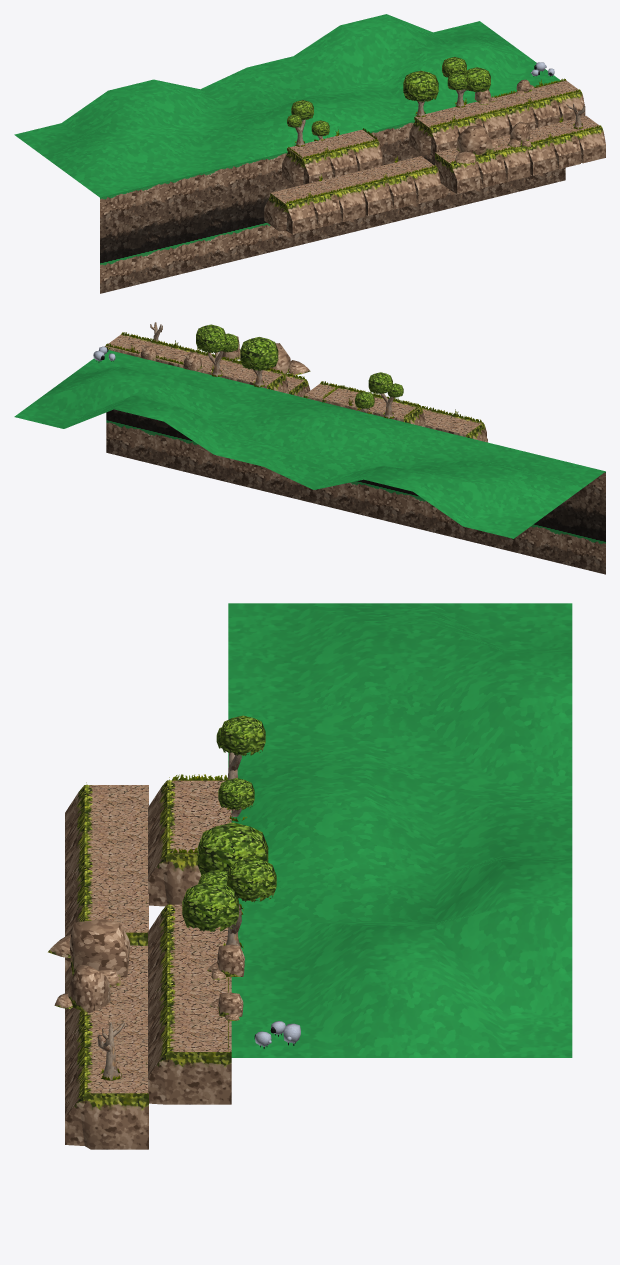
Rendered from terrenoBig_01.FBX.
The picture shows the model from 3 angles, top to bottom: view 1: azimuth 30°, elevation 25°; view 2: azimuth 150°, elevation 25°; view 3: azimuth 270°, elevation 25°; orthographic projection. The views are drawn at different scales.
Visible parts, largest first — view 1: cesped002, terreno_004, Terreno012, Terreno018, Terreno009, terreno_01, Terreno005, Terreno002, Arbol_002, Piedra003, Arbol_01, Arbol_006 (+1 smaller); view 2: cesped002, Terreno012, Terreno002, terreno_01, terreno_004, Arbol_01, Arbol_002, Arbol_006, Piedra003, Terreno005, Terreno018; view 3: cesped002, Terreno002, Terreno009, Terreno012, terreno_004, Terreno018, Arbol_002, terreno_01, Piedra003, Terreno005, Arbol_01, Arbol_006 (+3 smaller).
Part boxes in pixels (x1=…): cesped002: x1=14, y1=14, x2=565, y2=293; terreno_004: x1=264, y1=174, x2=365, y2=234; Terreno012: x1=282, y1=128, x2=382, y2=186; Terreno018: x1=346, y1=156, x2=440, y2=215; Terreno009: x1=527, y1=115, x2=605, y2=175; terreno_01: x1=409, y1=98, x2=509, y2=156; Terreno005: x1=435, y1=134, x2=530, y2=193; Terreno002: x1=492, y1=78, x2=585, y2=133; Arbol_002: x1=442, y1=57, x2=490, y2=107; Piedra003: x1=455, y1=125, x2=500, y2=164; Arbol_01: x1=403, y1=70, x2=438, y2=117; Arbol_006: x1=287, y1=100, x2=313, y2=146; cesped002: x1=14, y1=350, x2=605, y2=574; Terreno012: x1=322, y1=385, x2=425, y2=426; Terreno002: x1=105, y1=332, x2=203, y2=372; terreno_01: x1=198, y1=351, x2=288, y2=393; terreno_004: x1=394, y1=401, x2=487, y2=442; Arbol_01: x1=240, y1=337, x2=278, y2=387; Arbol_002: x1=196, y1=324, x2=238, y2=377; Arbol_006: x1=368, y1=372, x2=403, y2=418; Piedra003: x1=269, y1=343, x2=310, y2=375; Terreno005: x1=210, y1=360, x2=310, y2=397; Terreno018: x1=303, y1=381, x2=399, y2=414; cesped002: x1=228, y1=603, x2=572, y2=1057; Terreno002: x1=148, y1=975, x2=231, y2=1104; Terreno009: x1=65, y1=1017, x2=148, y2=1149; Terreno012: x1=148, y1=774, x2=231, y2=906; terreno_004: x1=65, y1=782, x2=148, y2=885; Terreno018: x1=65, y1=856, x2=148, y2=972; Arbol_002: x1=182, y1=857, x2=276, y2=952; terreno_01: x1=148, y1=901, x2=231, y2=1004; Piedra003: x1=48, y1=919, x2=130, y2=986; Terreno005: x1=65, y1=946, x2=147, y2=1046; Arbol_01: x1=197, y1=822, x2=268, y2=914; Arbol_006: x1=216, y1=715, x2=265, y2=779.
Size of the model in its own units: 37.32 by 18.04 by 10.84.
5 materials, 5 textured.
